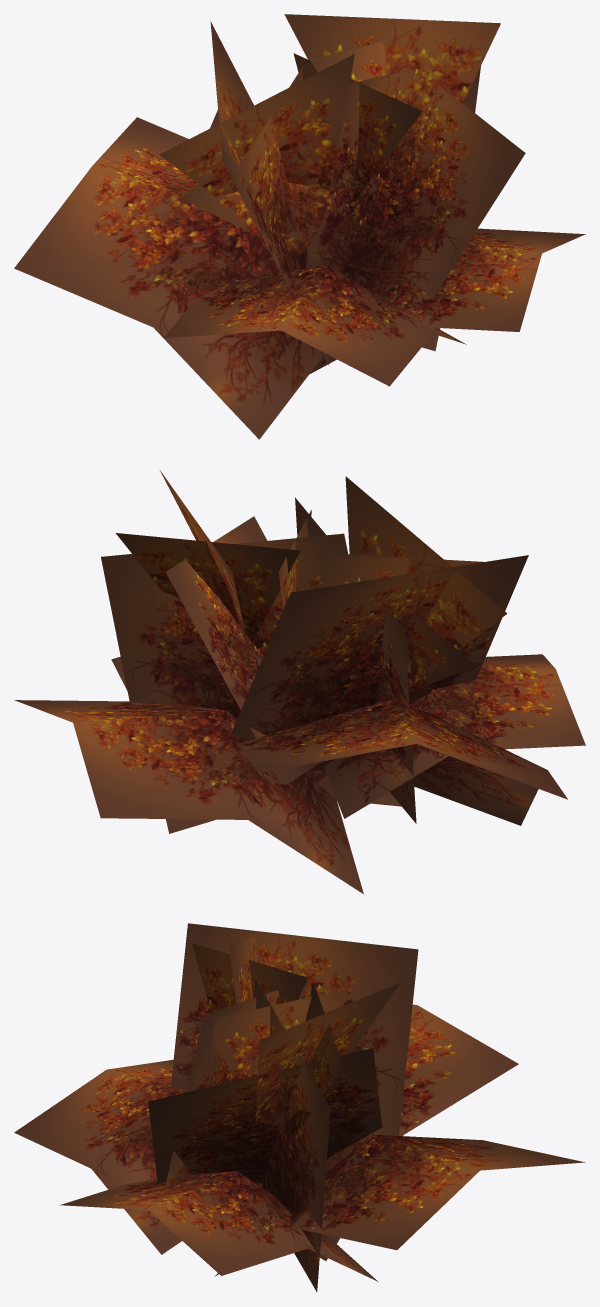
The model's file is yw_huanghunhupan_guanmu02.FBX.
3 views of the same model, one above another, from view 1: azimuth 30°, elevation 25°; view 2: azimuth 150°, elevation 25°; view 3: azimuth 270°, elevation 25° (orthographic). The views are drawn at different scales.
Parts seen in each view (by area): view 1: yw_huanghunhupan_guanmu02; view 2: yw_huanghunhupan_guanmu02; view 3: yw_huanghunhupan_guanmu02.
Part boxes in pixels (bbox=[...]): yw_huanghunhupan_guanmu02: bbox=[14, 14, 585, 439]; yw_huanghunhupan_guanmu02: bbox=[14, 470, 585, 894]; yw_huanghunhupan_guanmu02: bbox=[14, 923, 584, 1291].
Bounding box in the file's own units: 111 × 68.84 × 113.
